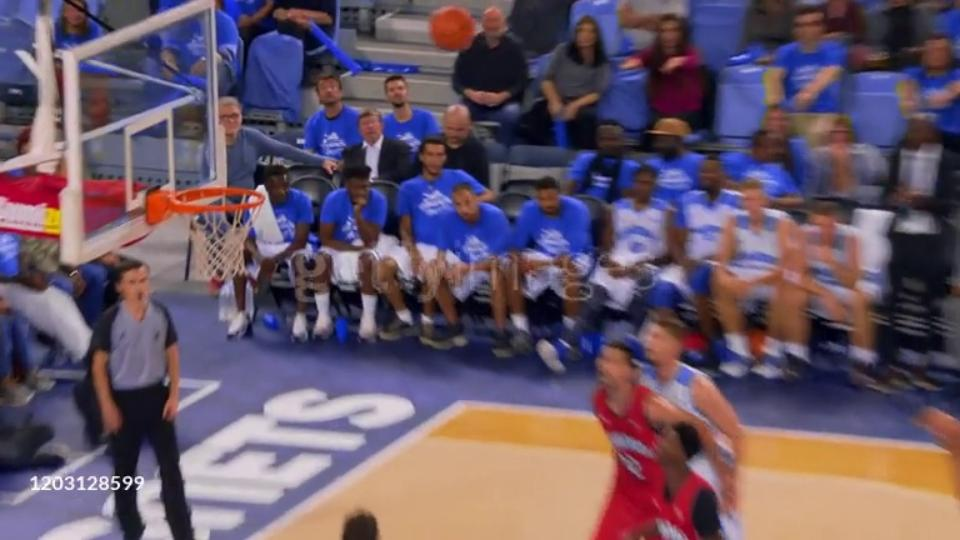hoop: (143, 185, 274, 221)
